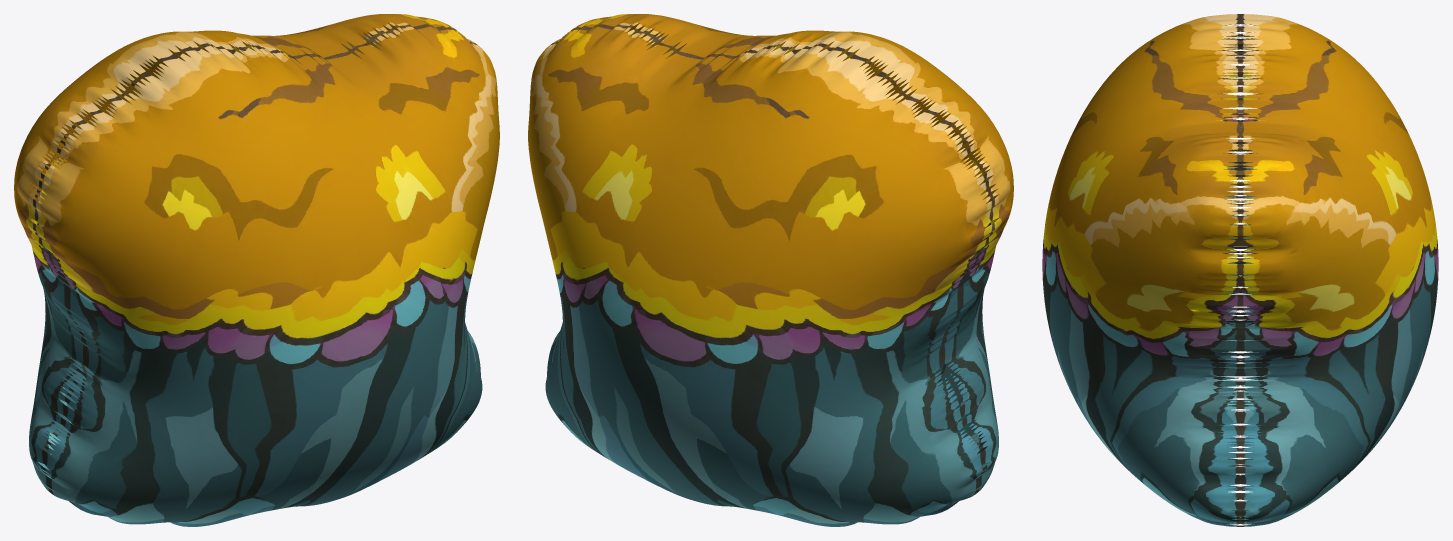
Rendered from golden_ledge.glb.
3 renders of one model, left to right at view 1: azimuth 30°, elevation 25°; view 2: azimuth 150°, elevation 25°; view 3: azimuth 270°, elevation 25°, orthographic. The views are drawn at different scales.
Parts seen in each view (by area): view 1: golden_ledge; view 2: golden_ledge; view 3: golden_ledge.
Part boxes in pixels (left/top/right/bottom): golden_ledge: left=14, top=14, right=499, bottom=526; golden_ledge: left=528, top=14, right=1013, bottom=526; golden_ledge: left=1042, top=14, right=1438, bottom=526.
Size of the model in its own units: 0.989 by 0.9804 by 0.8266.
1 material, 1 textured.
